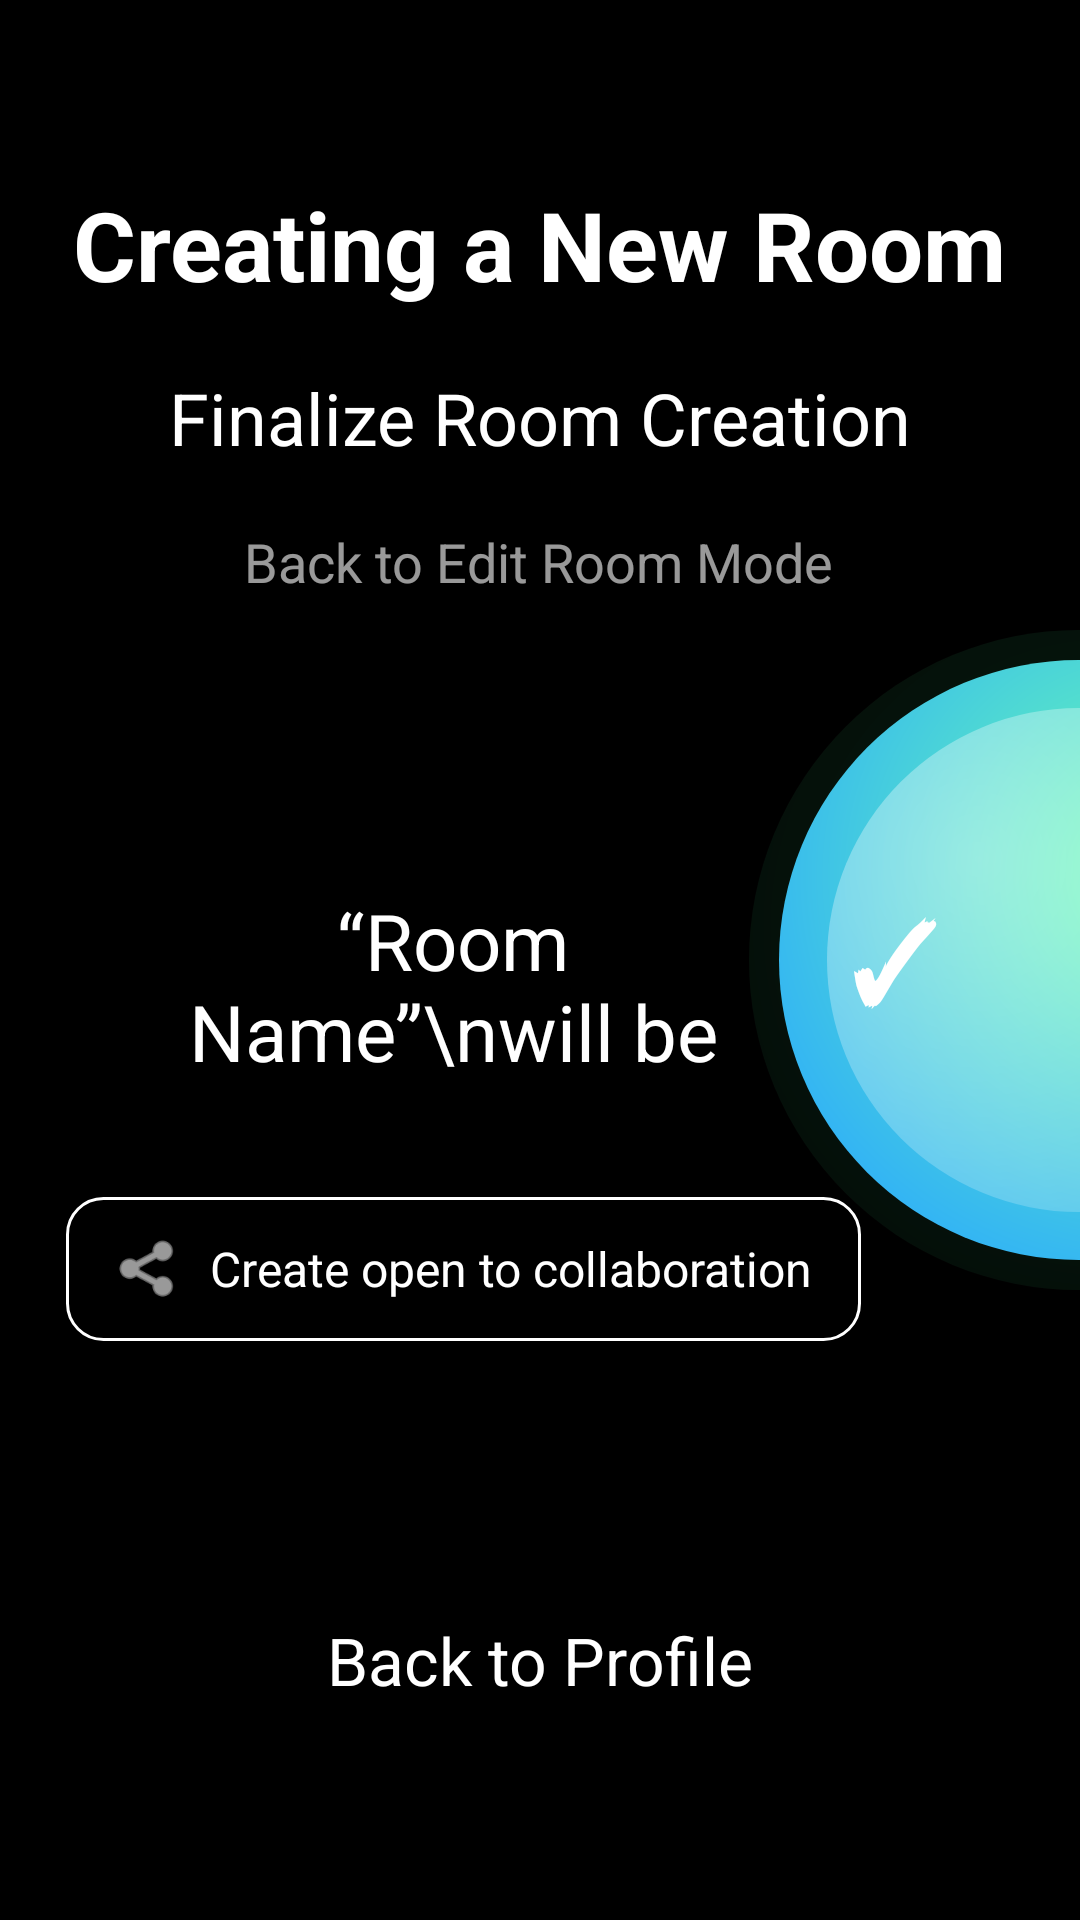

Screen size 1080w x 1920h. Icon name, then its box in pixels as {"x1": x1, "y1": y1, "x2": x2, "y2": y2}:
share: {"x1": 119, "y1": 1240, "x2": 173, "y2": 1297}
